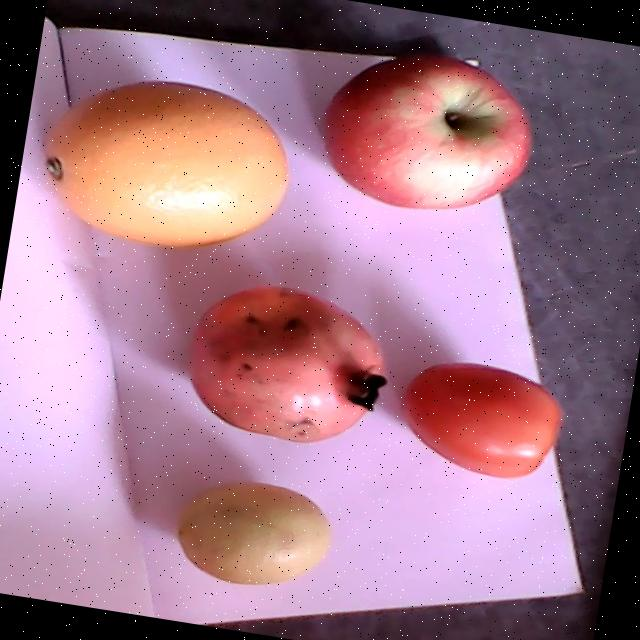apple: (320, 54, 531, 210)
lemon: (176, 482, 329, 585)
orange: (45, 81, 288, 248)
pomegranate: (187, 286, 386, 443)
tomato: (401, 362, 561, 478)
